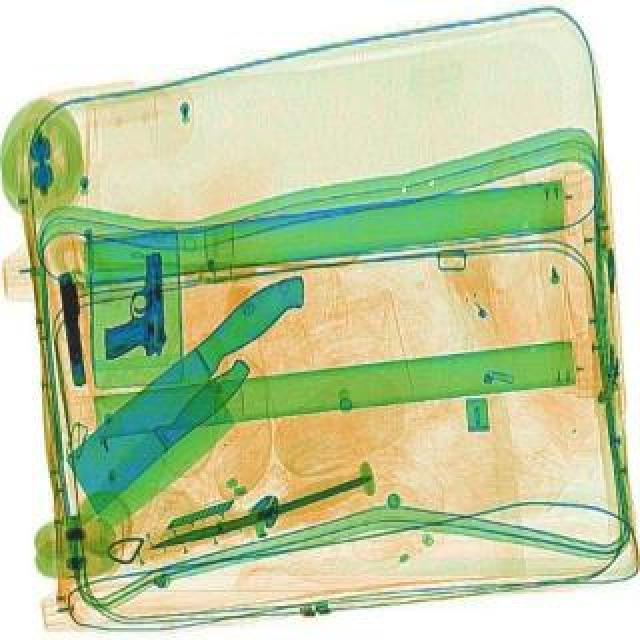gun: (100, 248, 168, 358), (56, 268, 92, 384)
knife: (46, 256, 354, 536), (64, 348, 262, 532), (148, 470, 374, 556)
